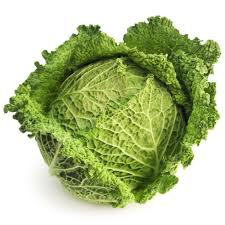cabbage: (5, 11, 225, 213)
